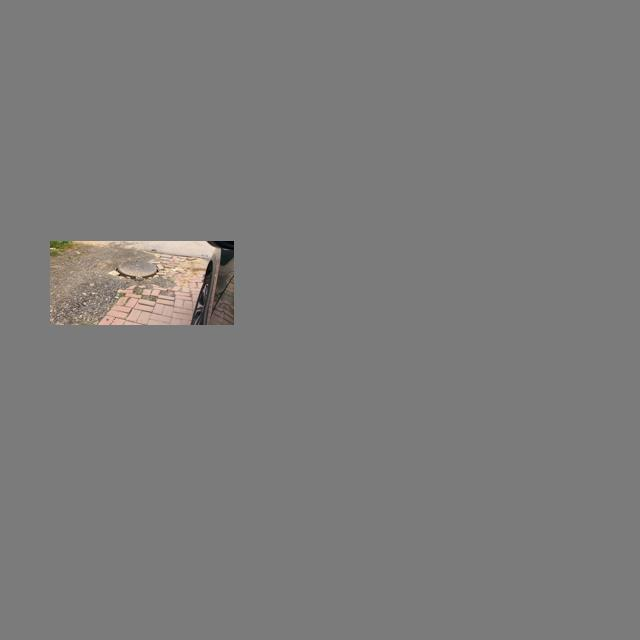circle: (104, 254, 173, 287)
